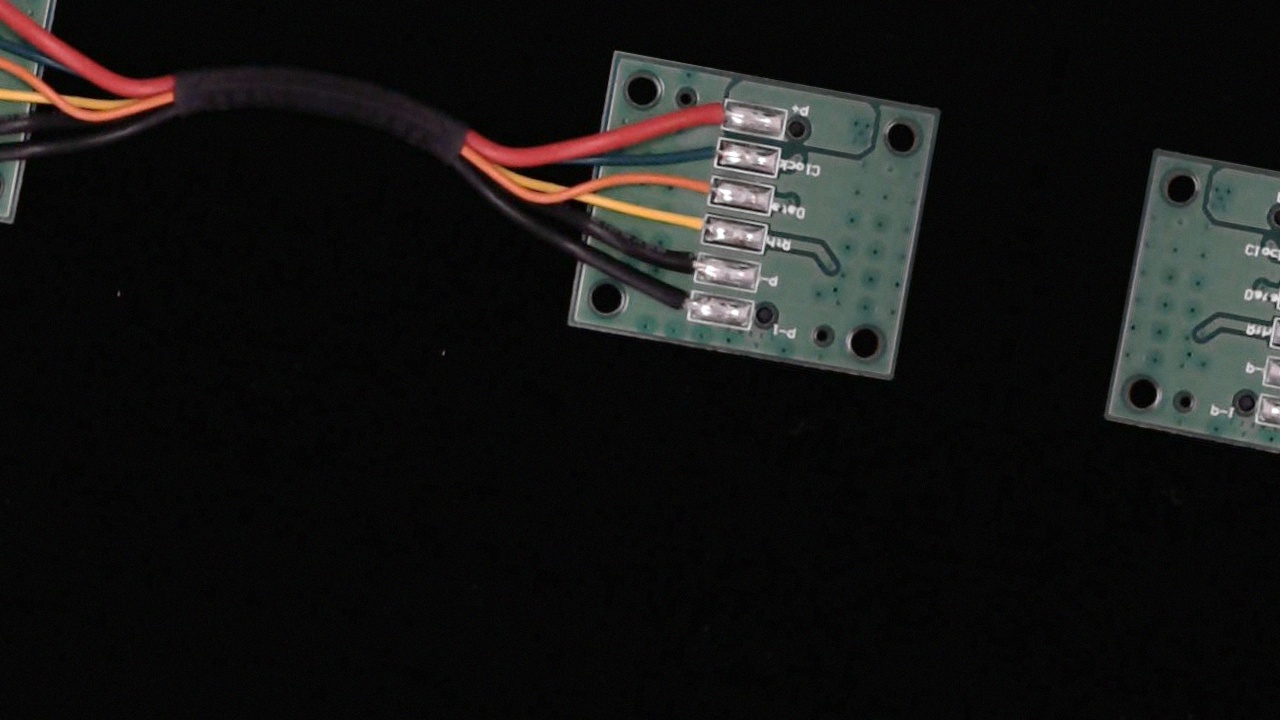Black: (646, 243, 717, 285)
Black1: (646, 284, 710, 323)
Green: (672, 128, 737, 168)
Orange: (664, 167, 730, 206)
Red: (666, 89, 740, 132)
Yellow: (651, 205, 725, 245)
